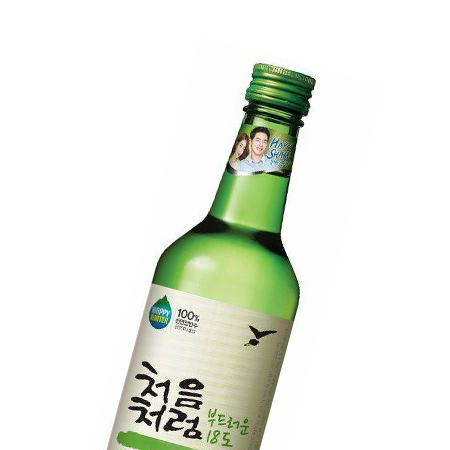soju: (101, 60, 318, 450)
